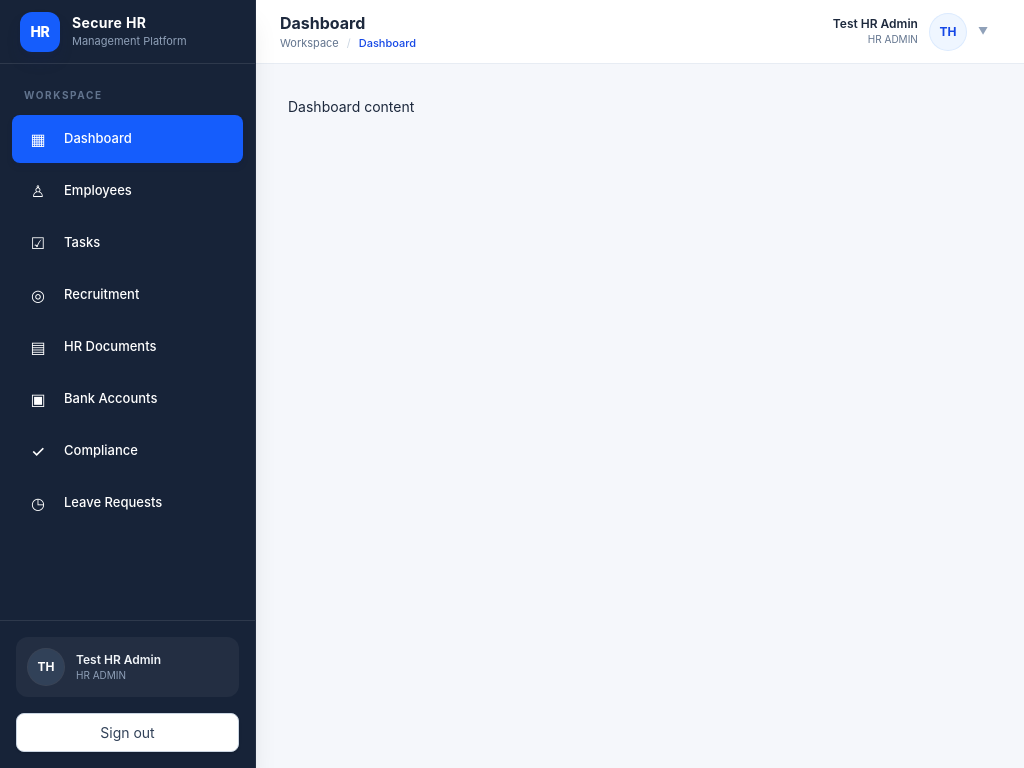
Test: AppLayout › does not log out before confirmation from the user menu
This screenshot has width=1024, height=768.
Click the button with aria-label "Open user menu": point(910, 32) 821,8 -> 1000,56
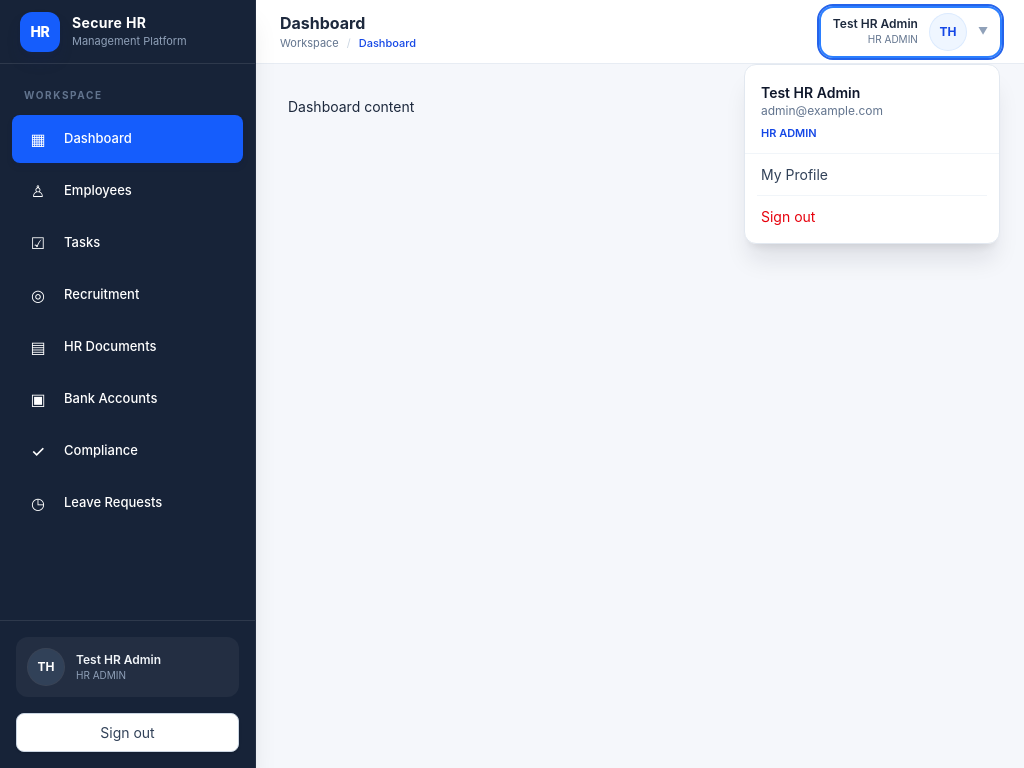
Click the menu item "Sign out": point(872, 216) 745,196 -> 999,237
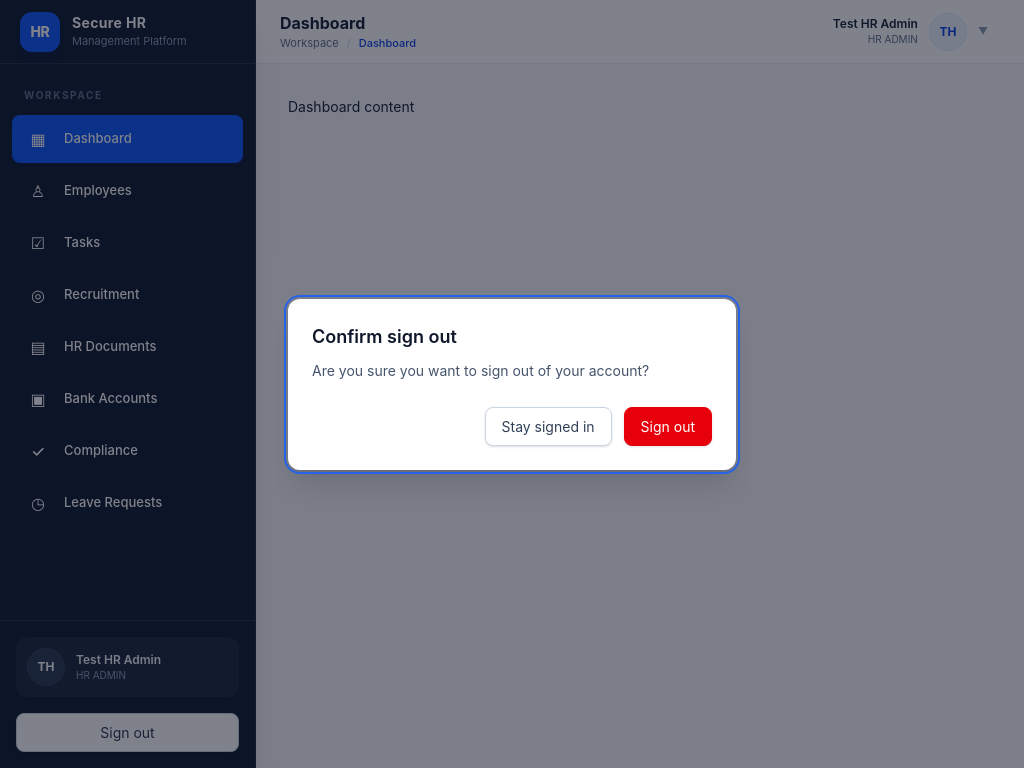
Expected: the dialog is shown, 288,298 -> 736,470
